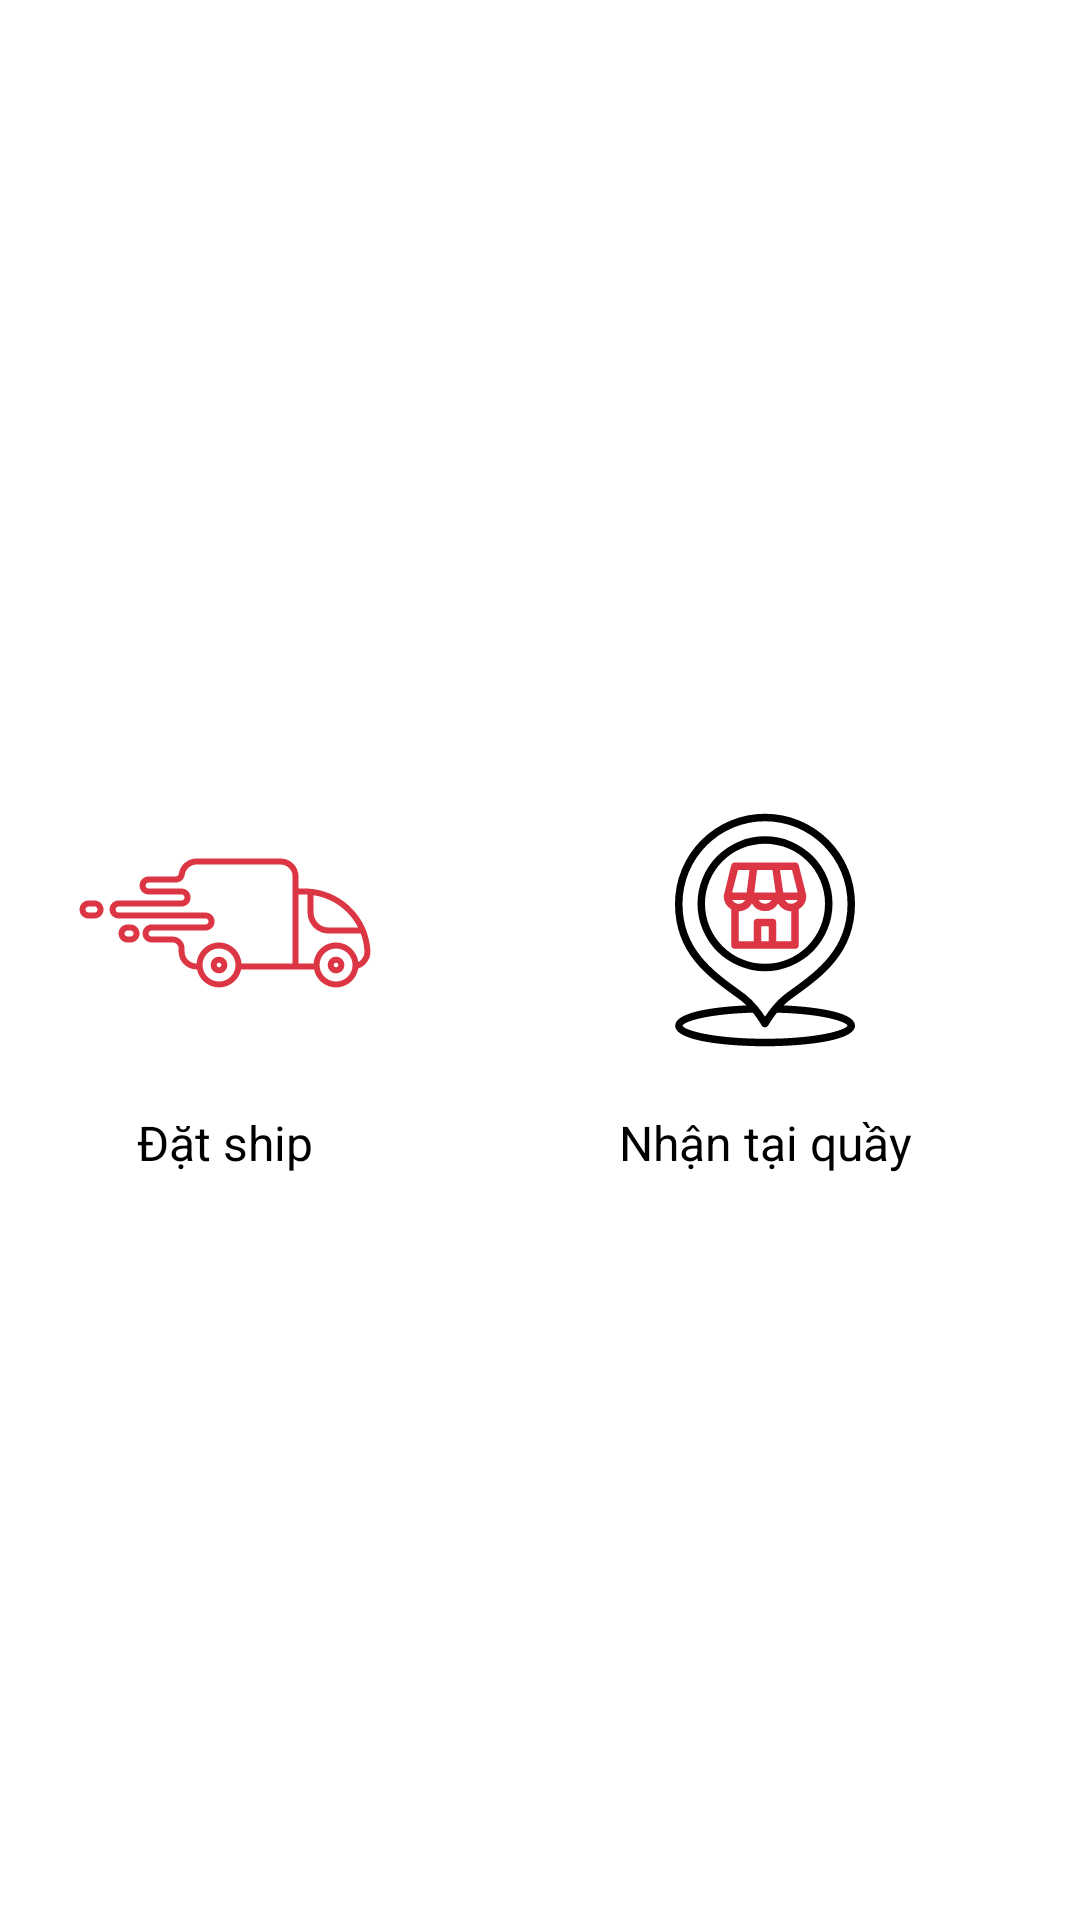

Icons on this 1080×1920 Android screen, each with the point to tap as [x,y]:
store: [765,930]
